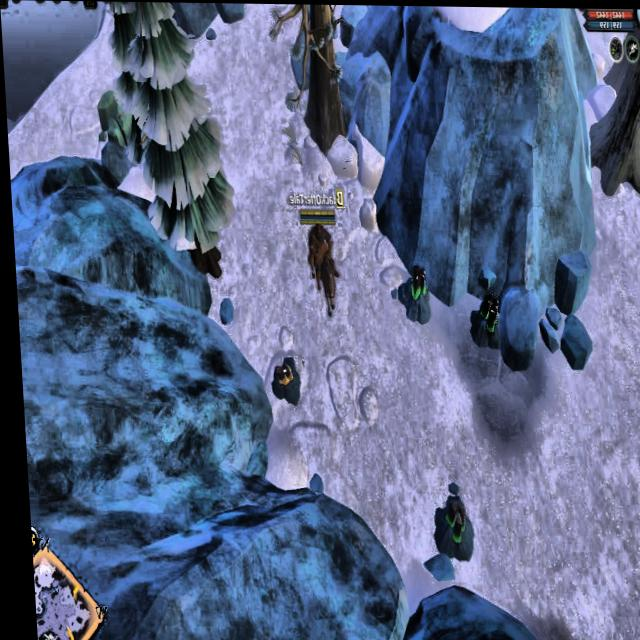copperore: (264, 351, 298, 405)
tinore: (425, 490, 471, 561), (391, 264, 430, 324), (463, 292, 501, 350)
